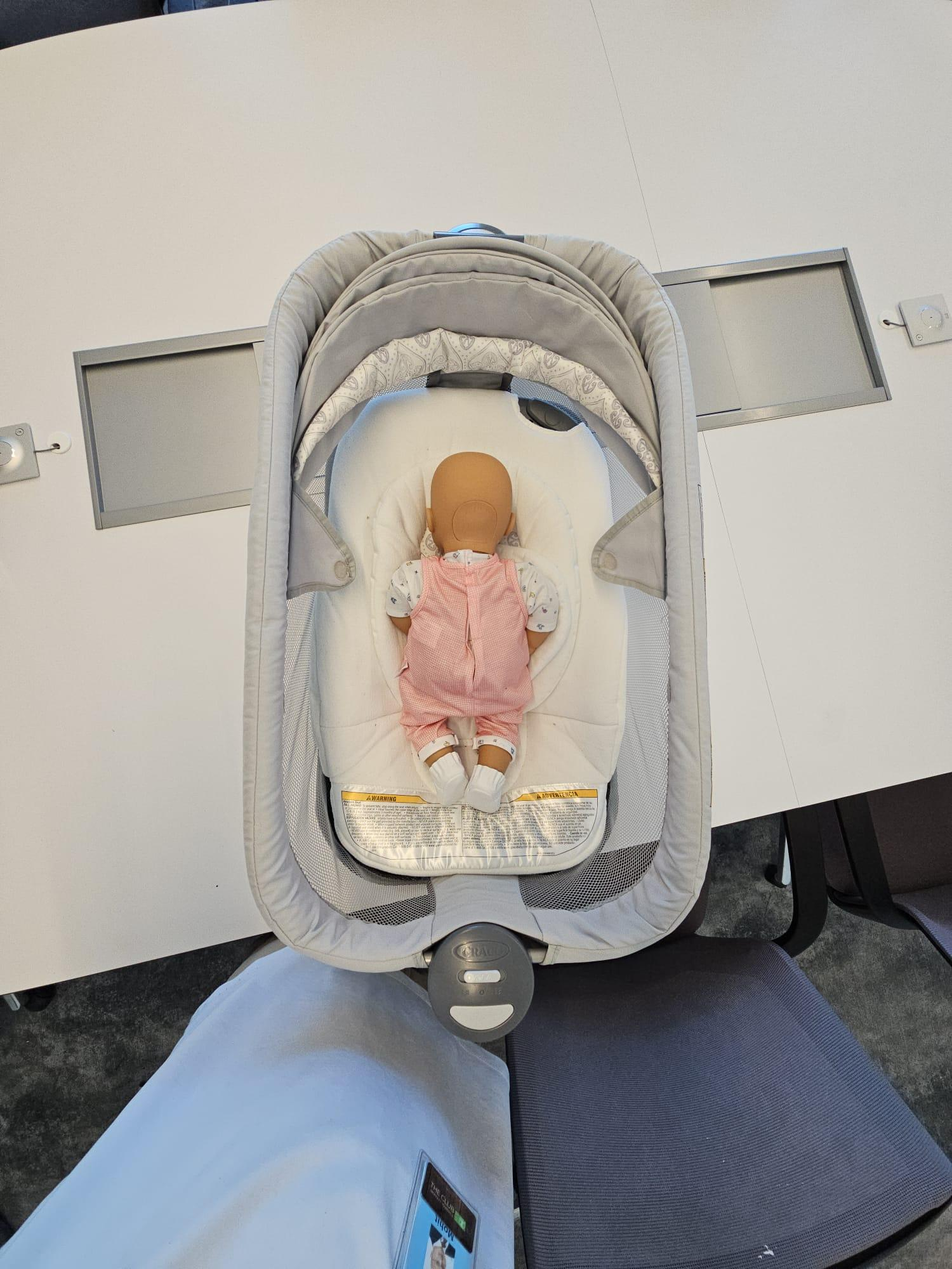baby: (368, 435, 583, 838)
